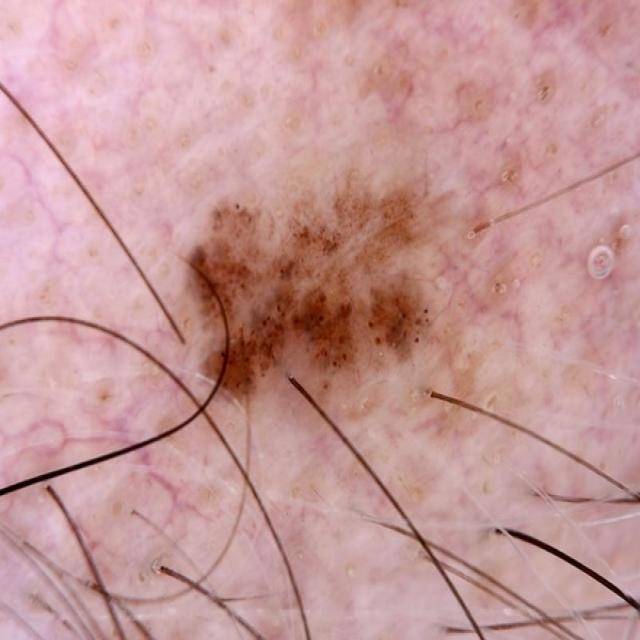Skin-Cancer Basal cell carcinoma: (107, 49, 603, 616)
